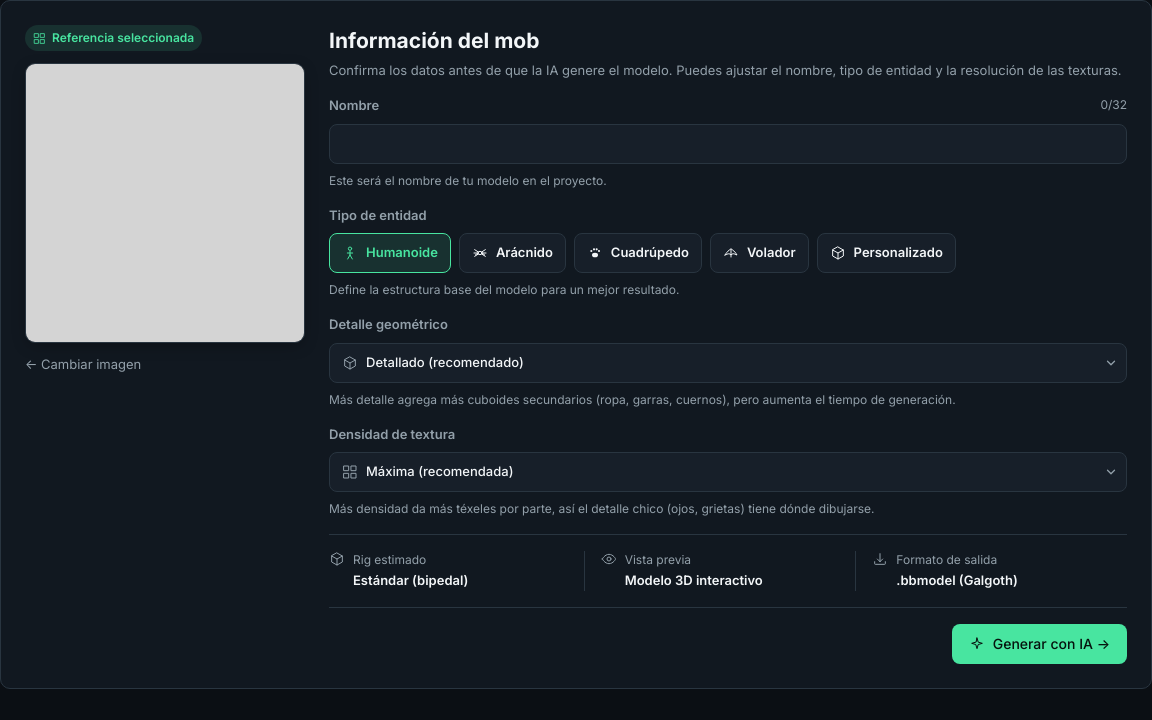
it: ConfigurationStep.vue › rediseño post-074 › el contador de caracteres del nombre refleja lo escrito, hasta el máximo de 32
The image size is (1152, 720).
Expected: the text with class "configuration-step__count" reads "0/32", [1100,97,1127,112]
Type "Carcomido" into the field named "Nombre del mob" at (728, 144), box [329,124,1127,164]
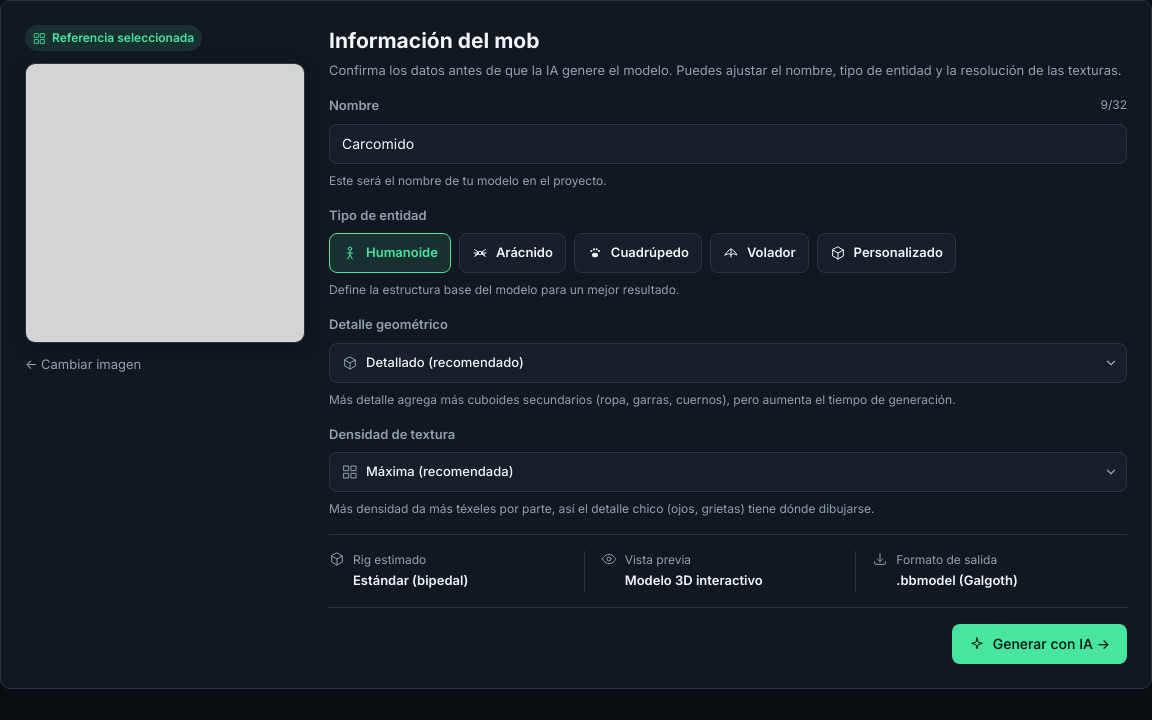
Result: the text with class "configuration-step__count" reads "9/32" at [1100,97,1127,112]
